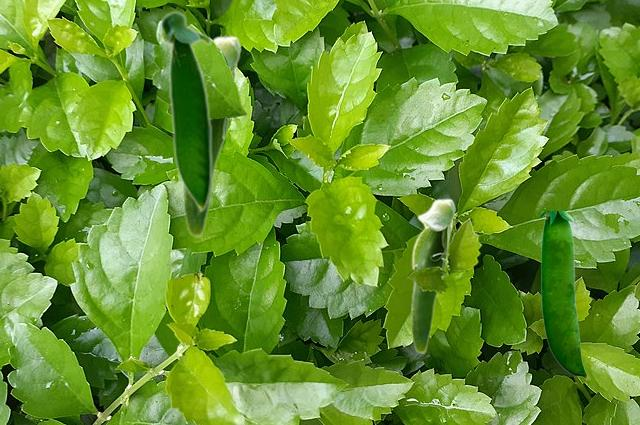pea: (182, 35, 241, 237), (158, 9, 212, 215), (541, 211, 586, 379), (410, 198, 455, 353)
